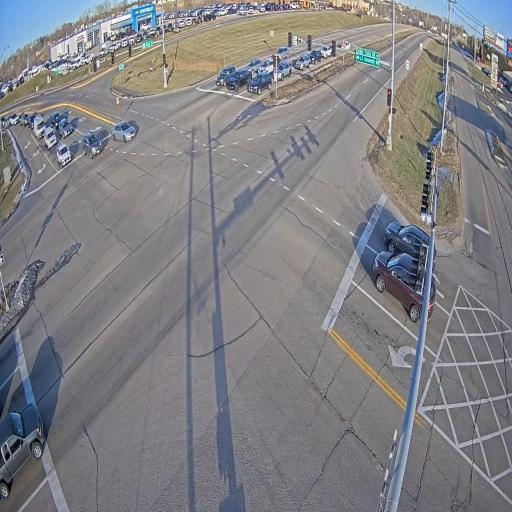pickup: (0, 403, 46, 498), (226, 70, 251, 91), (20, 112, 28, 126)
sedan: (111, 121, 138, 142), (82, 131, 102, 159), (57, 142, 71, 167), (58, 119, 73, 138), (277, 46, 289, 61), (320, 46, 331, 57), (341, 40, 350, 50)
suv: (372, 249, 428, 322), (385, 221, 430, 258), (247, 73, 272, 95), (216, 66, 235, 86), (428, 276, 436, 319), (245, 58, 262, 76), (277, 60, 292, 80), (44, 126, 57, 149), (258, 58, 274, 73), (295, 54, 310, 70), (50, 112, 61, 129), (310, 49, 322, 64), (27, 113, 37, 128), (9, 113, 19, 125), (433, 246, 437, 269), (0, 117, 6, 127)
truck: (34, 116, 46, 139)
